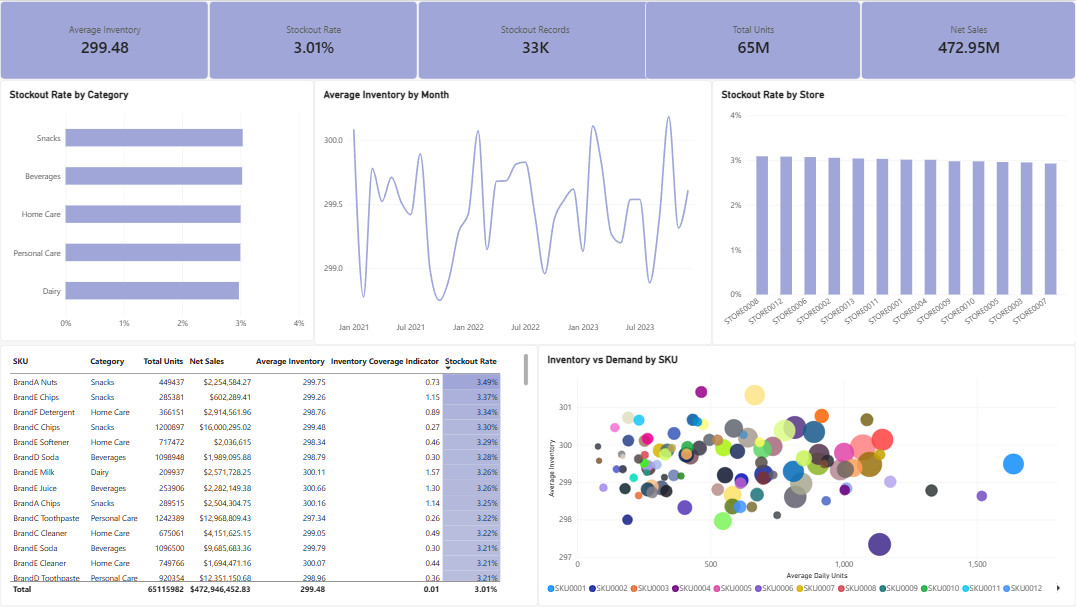

The page's visual inventory and layout, read from the dashboard file:
{"tool":"powerbi","page":{"name":"03 Inventory & Stockouts","canvas":[1920,1080],"ordinal":2},"visuals":[{"type":"cardVisual","fields":{"Data":["_Measures.Average Inventory"]},"box":[0,0,372.9,141],"z":0},{"type":"cardVisual","fields":{"Data":["_Measures.Stockout Rate"]},"box":[372.9,0,372.9,141],"z":1000},{"type":"cardVisual","fields":{"Data":["_Measures.Stockout Records"]},"box":[745.9,0,417.5,141],"z":2000},{"type":"cardVisual","fields":{"Data":["_Measures.Total Units"]},"box":[1150.9,0,385.4,141],"z":3000},{"type":"cardVisual","fields":{"Data":["_Measures.Net Sales"]},"box":[1536.4,0,383.6,141],"z":4000},{"type":"lineChart","title":"Average Inventory by Month","fields":{"Category":["DimDate.Month Year"],"Y":["_Measures.Average Inventory"]},"box":[560.3,141,710.2,472.9],"z":5000},{"type":"clusteredBarChart","title":"Stockout Rate by Category","fields":{"Category":["DimProduct.category"],"Y":["_Measures.Stockout Rate"]},"box":[0,141,560.3,465.7],"z":6000},{"type":"clusteredColumnChart","title":"Stockout Rate by Store","fields":{"Y":["_Measures.Stockout Rate"],"Category":["DimStore.store_id"]},"box":[1270.5,141,649.5,472.9],"z":7000},{"type":"scatterChart","title":"Inventory vs Demand by SKU","fields":{"X":["_Measures.Average Daily Units"],"Y":["_Measures.Average Inventory"],"Size":["_Measures.Net Sales"],"Series":["DimProduct.sku_id"]},"box":[960,613.8,960,465.7],"z":8000},{"type":"tableEx","fields":{"Values":["DimProduct.sku_name","FactSales.category","_Measures.Total Units","_Measures.Net Sales","_Measures.Average Inventory","_Measures.Inventory Coverage Indicator","_Measures.Stockout Rate"]},"box":[0,613.8,960,465.7],"z":9000}]}

Visuals, with their boxes in screenshot pixels (x1, y1, x2, y2), scaled from the page's 1920x1080 canvas onto the 1076x607 screenshot:
cardVisual - _Measures.Average Inventory: <region>0, 0, 209, 79</region>
cardVisual - _Measures.Stockout Rate: <region>209, 0, 418, 79</region>
cardVisual - _Measures.Stockout Records: <region>418, 0, 652, 79</region>
cardVisual - _Measures.Total Units: <region>645, 0, 861, 79</region>
cardVisual - _Measures.Net Sales: <region>861, 0, 1075, 79</region>
"Average Inventory by Month" lineChart: <region>314, 79, 712, 345</region>
"Stockout Rate by Category" clusteredBarChart: <region>0, 79, 314, 341</region>
"Stockout Rate by Store" clusteredColumnChart: <region>712, 79, 1075, 345</region>
"Inventory vs Demand by SKU" scatterChart: <region>538, 345, 1075, 606</region>
tableEx - DimProduct.sku_name x FactSales.category: <region>0, 345, 538, 606</region>
